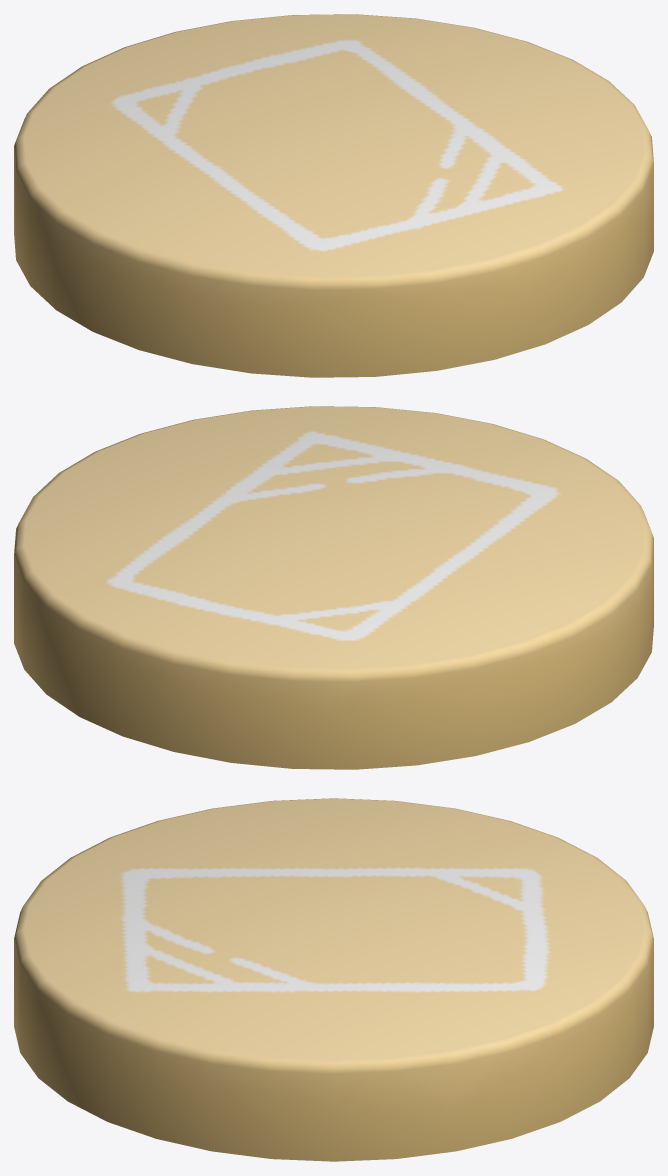
The model's file is visual_lesson.glb.
The picture shows the model from 3 angles, top to bottom: view 1: azimuth 30°, elevation 25°; view 2: azimuth 150°, elevation 25°; view 3: azimuth 270°, elevation 25°; orthographic projection.
Parts seen in each view (by area): view 1: visual_lesson; view 2: visual_lesson; view 3: visual_lesson.
Boxes of the visible parts, x1,y1,x2,y2 form: visual_lesson: [14, 14, 653, 377]; visual_lesson: [14, 406, 653, 769]; visual_lesson: [14, 798, 653, 1161].
Size of the model in its own units: 0.3536 by 0.059 by 0.3536.
Materials: 1 (1 with a texture image).
